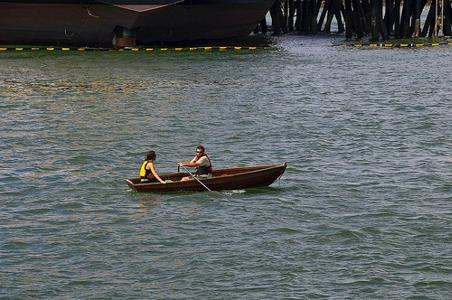person: (180, 146, 213, 182)
